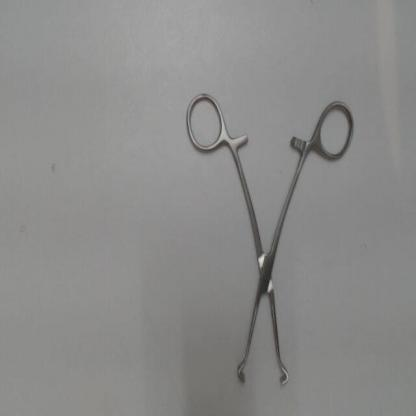Babcock Tissue Forceps: (179, 90, 357, 386)
